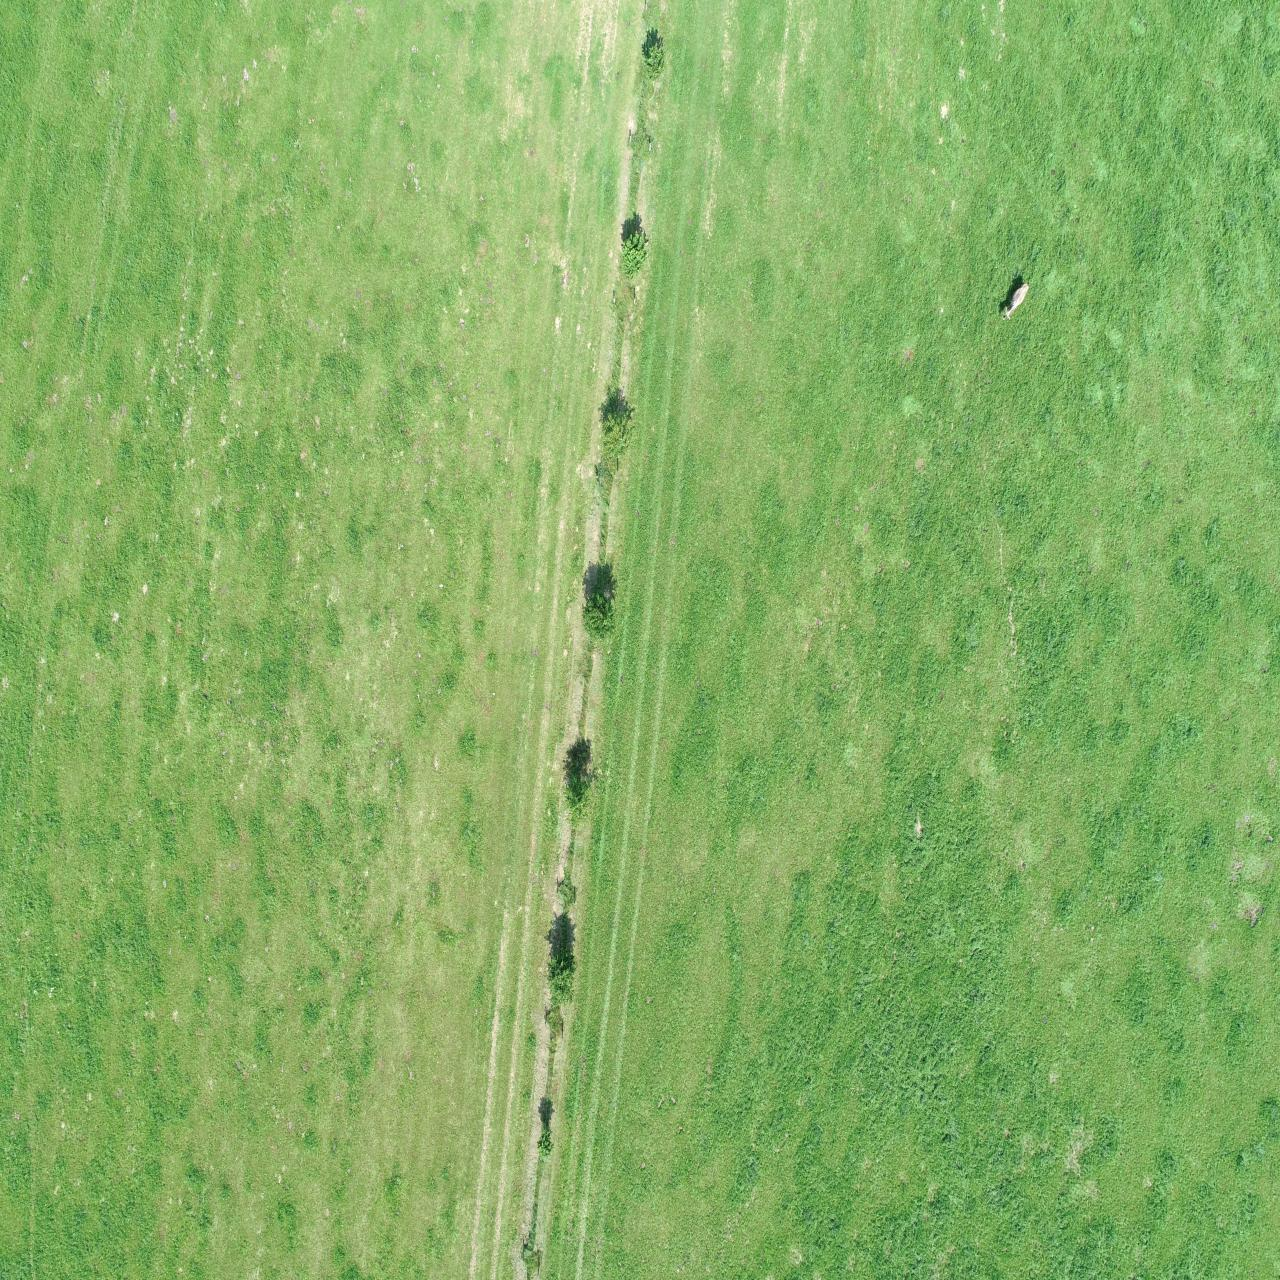cow: (1002, 281, 1032, 321)
